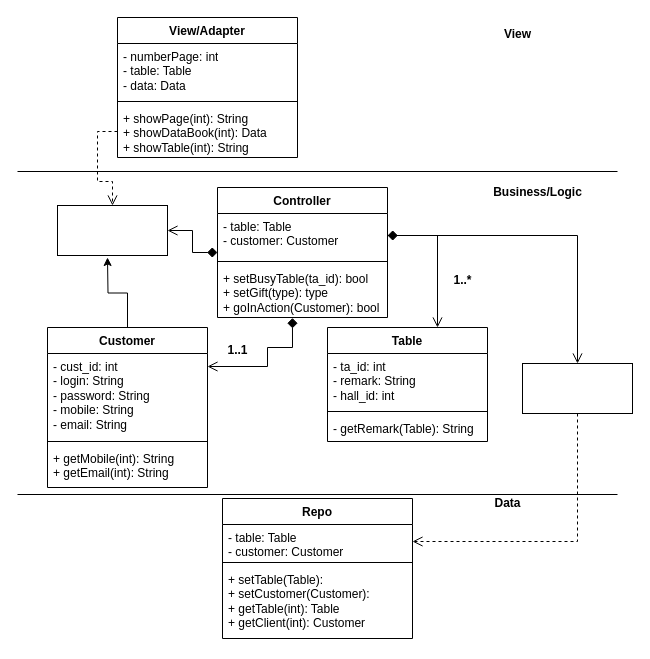
Some shapes in this 650 by 659 pixel diagram are drawn without their labels. The centre of each missing label's shape, as x and y in pixels:
"«interface» iDraw" belongs at [112,230].
"«interface» iRepo" belongs at [577,388].
